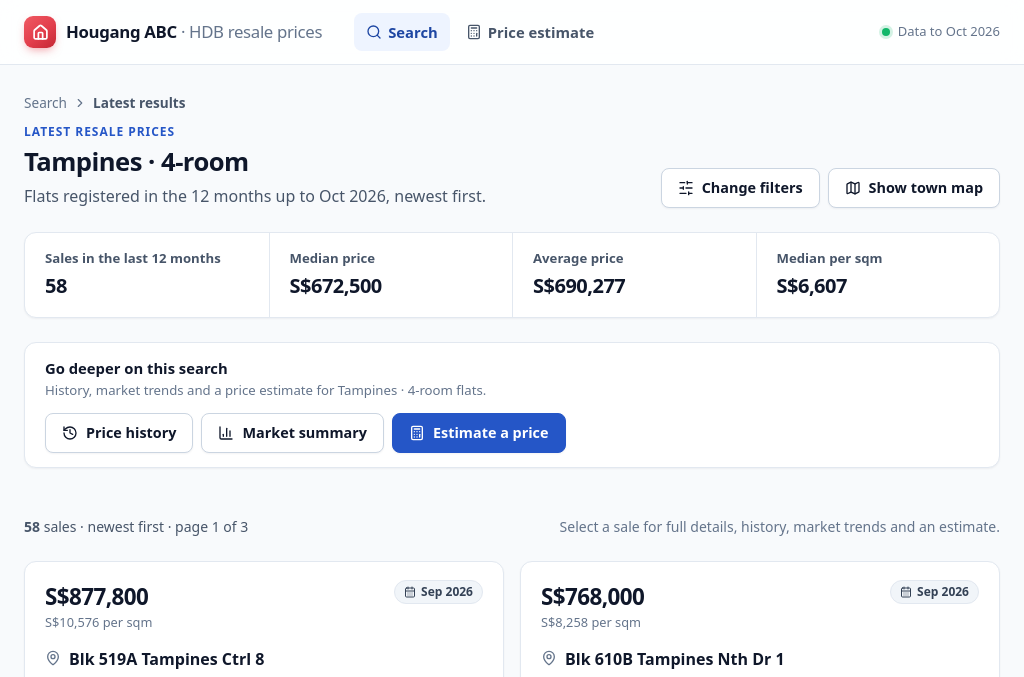
Test: S2 Latest Results Page (UC-4.2) › opens S3, S4 and S5 for the whole search, each coming 'Back to results'
Click the button "Price history" at (119, 433), box [45,413,194,453]
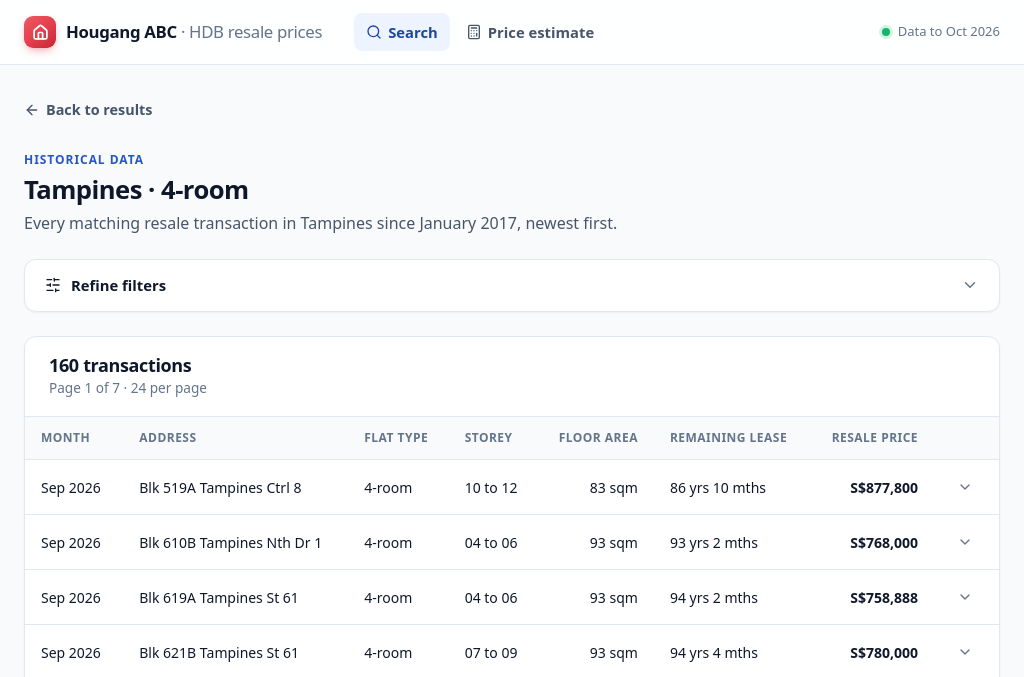
Expected: the text "Historical data" is shown, [24,151,144,168]
Click the link "Back to results" at (88, 110), box [24,100,152,119]
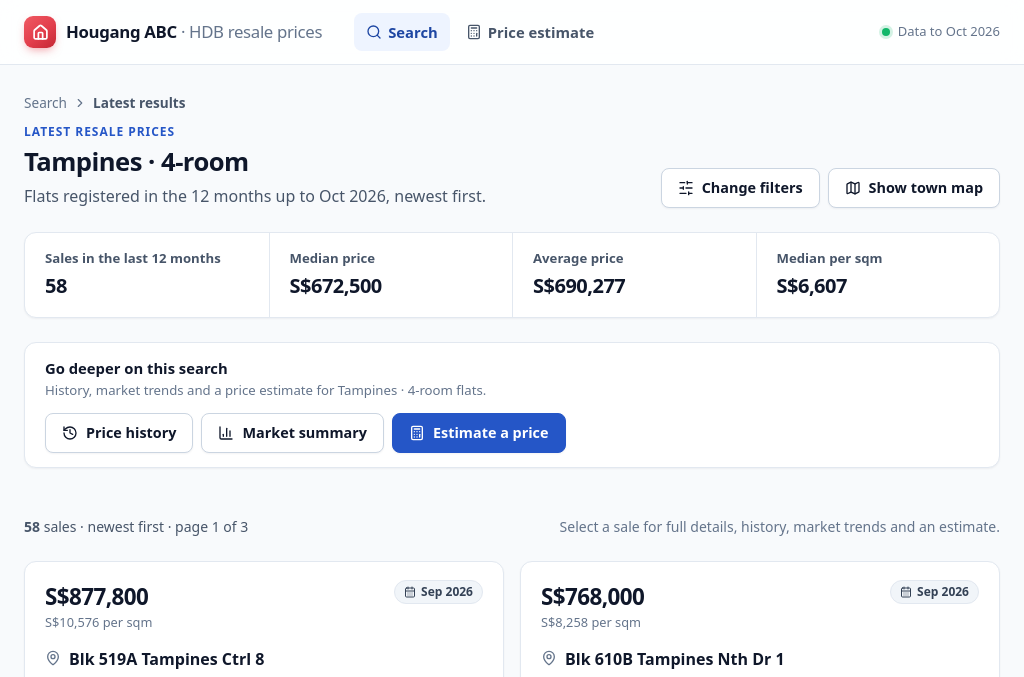
Expected: the text "Sales in the last 12 months" is shown, [45,249,248,269]
Click the button "Market summary" at (293, 433), box [202,413,384,453]
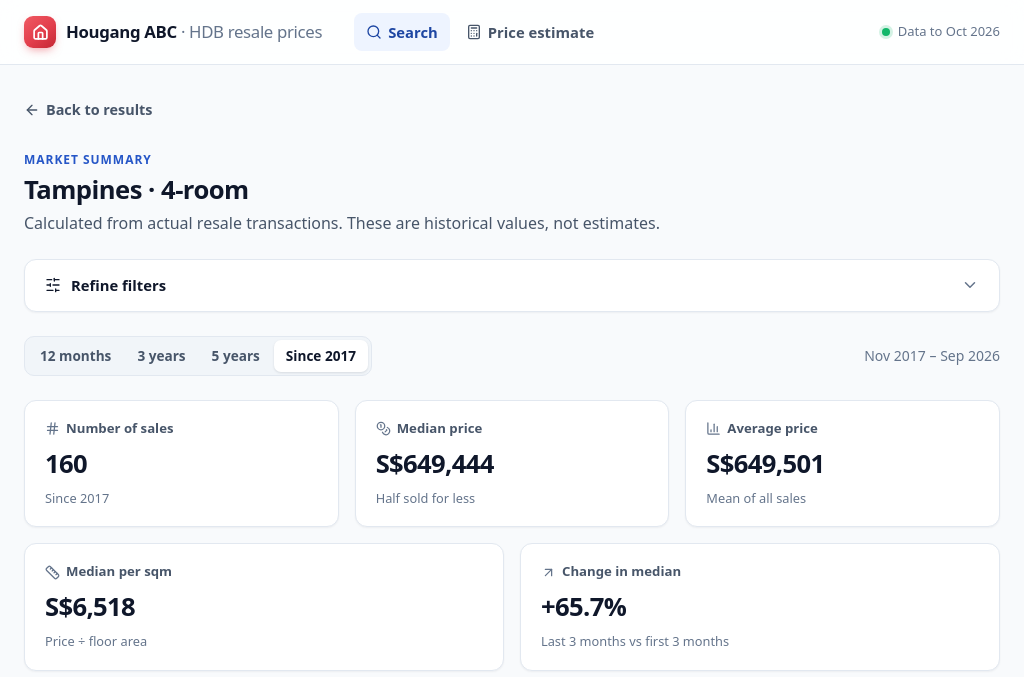
Expected: the text "Market summary" is shown, [24,151,152,168]
Click the link "Back to results" at (88, 110), box [24,100,152,119]
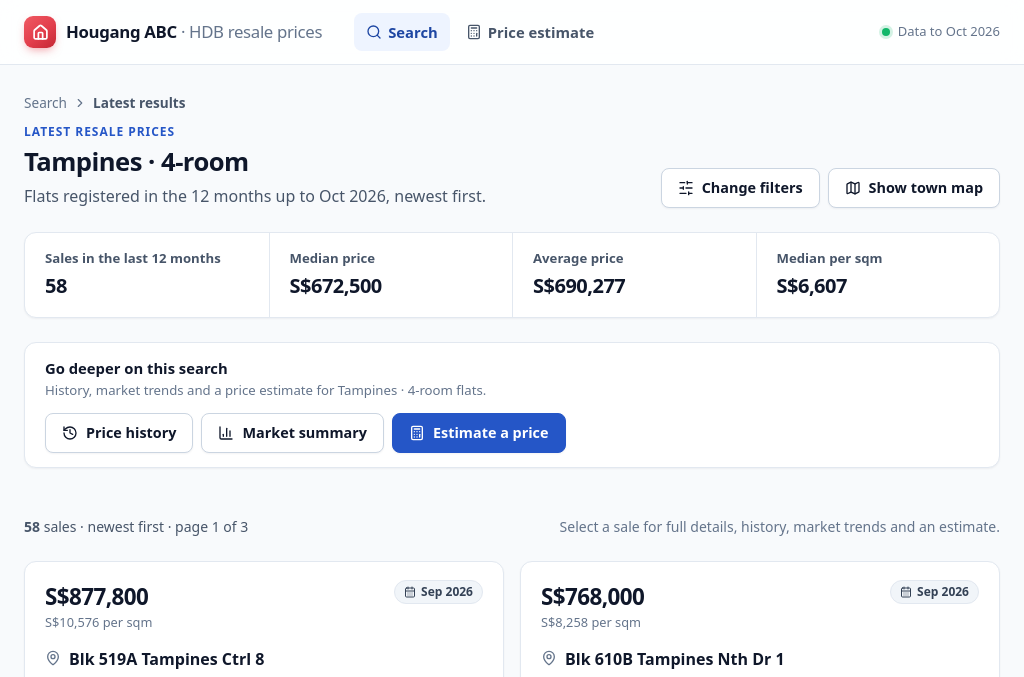
Expected: the text "Sales in the last 12 months" is shown, [45,249,248,269]
Click the button "Estimate a price" at (479, 433), box [392,413,566,453]
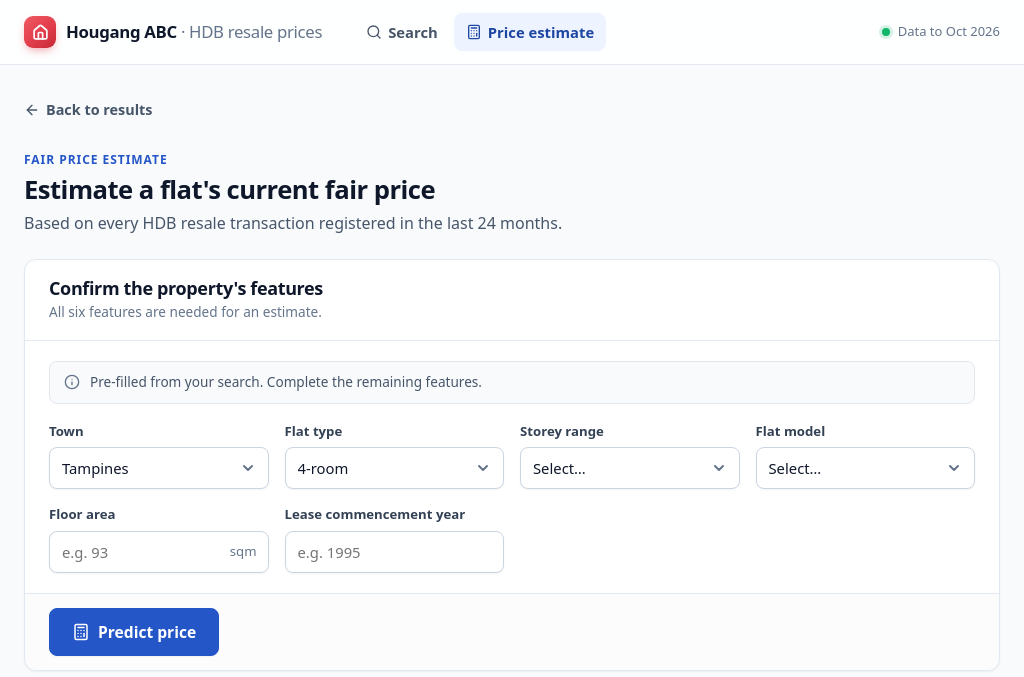
Expected: the text "Fair price estimate" is shown, [24,151,168,168]
Click the link "Back to results" at (88, 110), box [24,100,152,119]
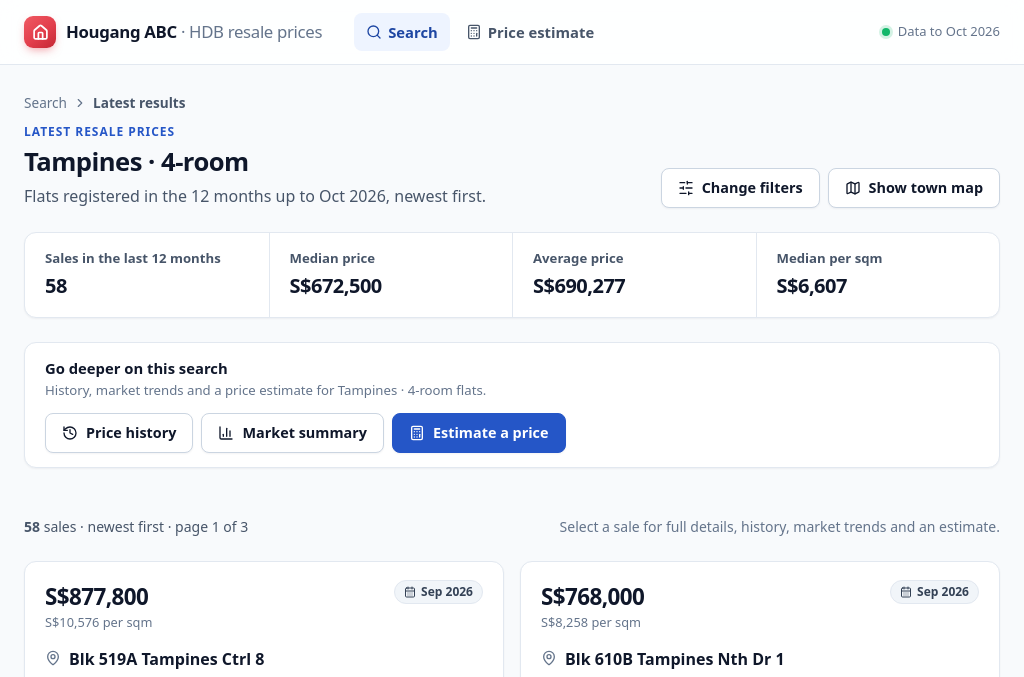
Expected: the text "Sales in the last 12 months" is shown, [45,249,248,269]
